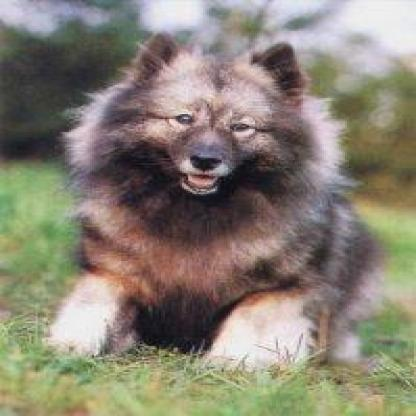keeshond: (29, 21, 389, 385)
